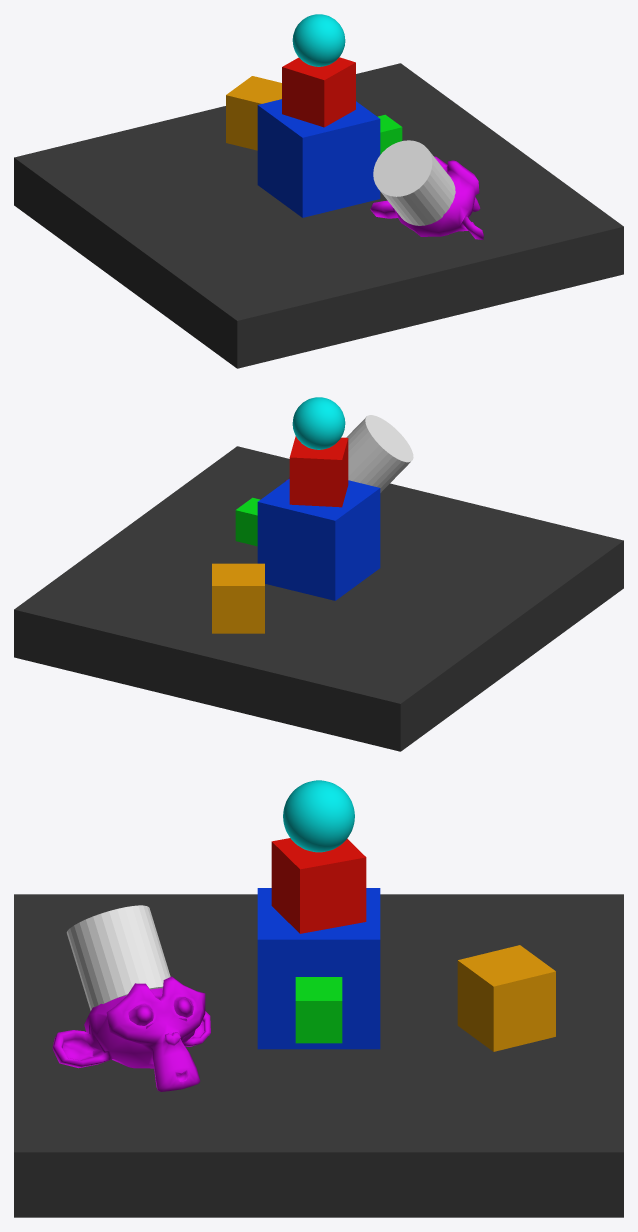
The model's file is simple_scene.glb.
3 renders of one model, top to bottom at view 1: azimuth 30°, elevation 25°; view 2: azimuth 150°, elevation 25°; view 3: azimuth 270°, elevation 25°, orthographic. The views are drawn at different scales.
Visible parts, largest first — view 1: Floor, Blue Cube, Cylinder, Red Cube, Suzanne, Orange Cube, Metalic Sphere, Green Overhang; view 2: Floor, Blue Cube, Orange Cube, Red Cube, Cylinder, Metalic Sphere, Green Overhang; view 3: Floor, Blue Cube, Suzanne, Orange Cube, Red Cube, Cylinder, Metalic Sphere, Green Overhang.
Boxes of the visible parts, x1=… form: Floor: x1=14, y1=63, x2=623, y2=368; Blue Cube: x1=257, y1=99, x2=380, y2=217; Cylinder: x1=373, y1=140, x2=455, y2=225; Red Cube: x1=282, y1=57, x2=355, y2=127; Suzanne: x1=370, y1=156, x2=483, y2=239; Orange Cube: x1=226, y1=76, x2=281, y2=150; Metalic Sphere: x1=292, y1=14, x2=345, y2=66; Green Overhang: x1=377, y1=114, x2=402, y2=154; Floor: x1=14, y1=446, x2=623, y2=751; Blue Cube: x1=257, y1=479, x2=380, y2=600; Orange Cube: x1=212, y1=563, x2=264, y2=633; Red Cube: x1=289, y1=436, x2=348, y2=507; Cylinder: x1=346, y1=415, x2=413, y2=492; Metalic Sphere: x1=292, y1=397, x2=345, y2=449; Green Overhang: x1=235, y1=497, x2=260, y2=546; Floor: x1=14, y1=894, x2=623, y2=1217; Blue Cube: x1=257, y1=888, x2=380, y2=1049; Suzanne: x1=52, y1=976, x2=210, y2=1091; Orange Cube: x1=457, y1=945, x2=555, y2=1051; Red Cube: x1=271, y1=838, x2=366, y2=933; Cylinder: x1=66, y1=905, x2=170, y2=1010; Metalic Sphere: x1=283, y1=780, x2=354, y2=852; Green Overhang: x1=295, y1=977, x2=342, y2=1043.
Bounding box in the file's own units: 16.92 × 9.33 × 16.92.
